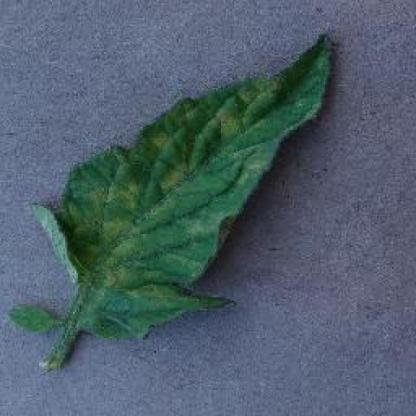Tomato_Leaf_Mold: (38, 30, 332, 314)
